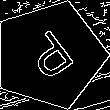P_SE: (18, 23, 80, 87)
